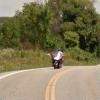Motorcycle: (43, 42, 70, 73)
